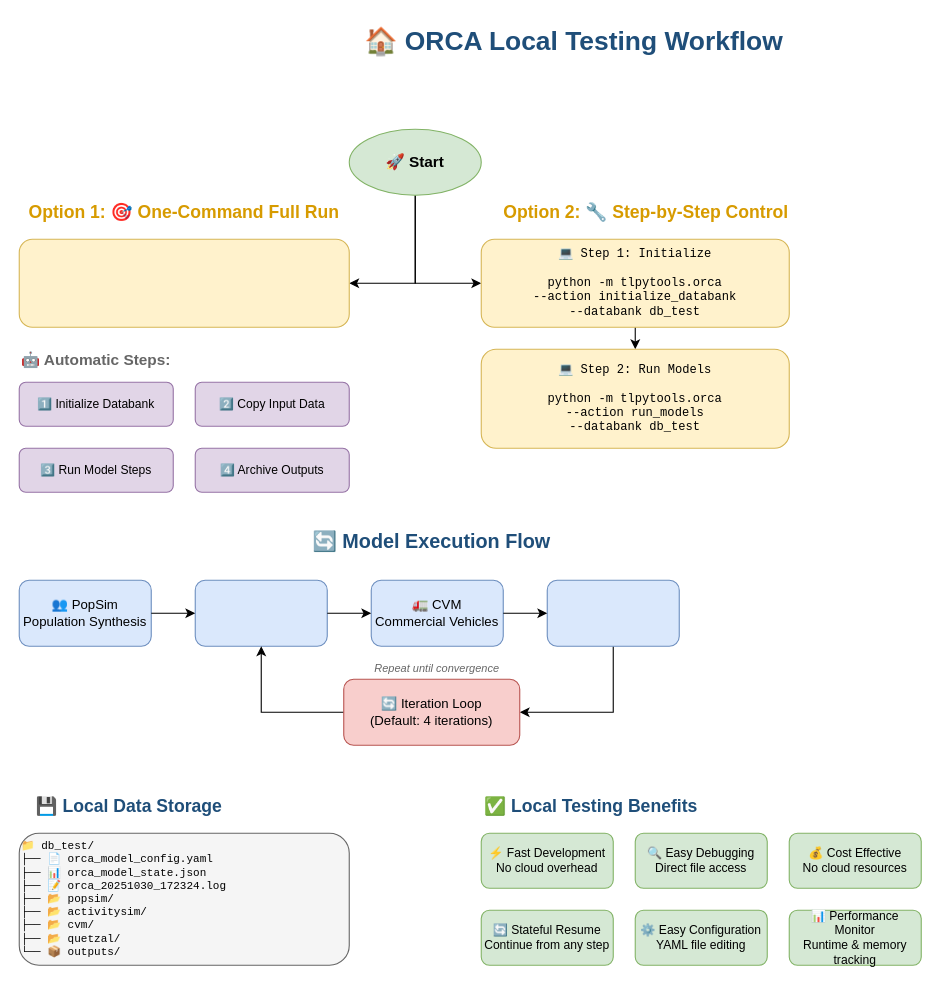
Image size: 941x986. Some labels were removed from this diagram. The shapes that lost their labels are listed below. From the top down, each one's centre as x and y in pixels, then its label:
At pixel 183 282: "💻 CLI Command python -m tlpytools.orca --action run_models --databank db_test".
At pixel 260 612: "🎯 ActivitySim Travel Demand".
At pixel 612 612: "🌐 Quetzal Traffic Assignment".
